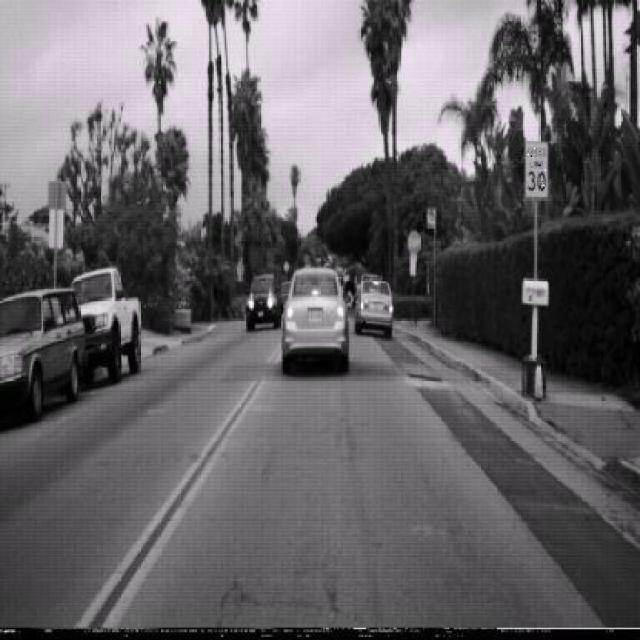speedLimit30: (525, 138, 549, 198)
